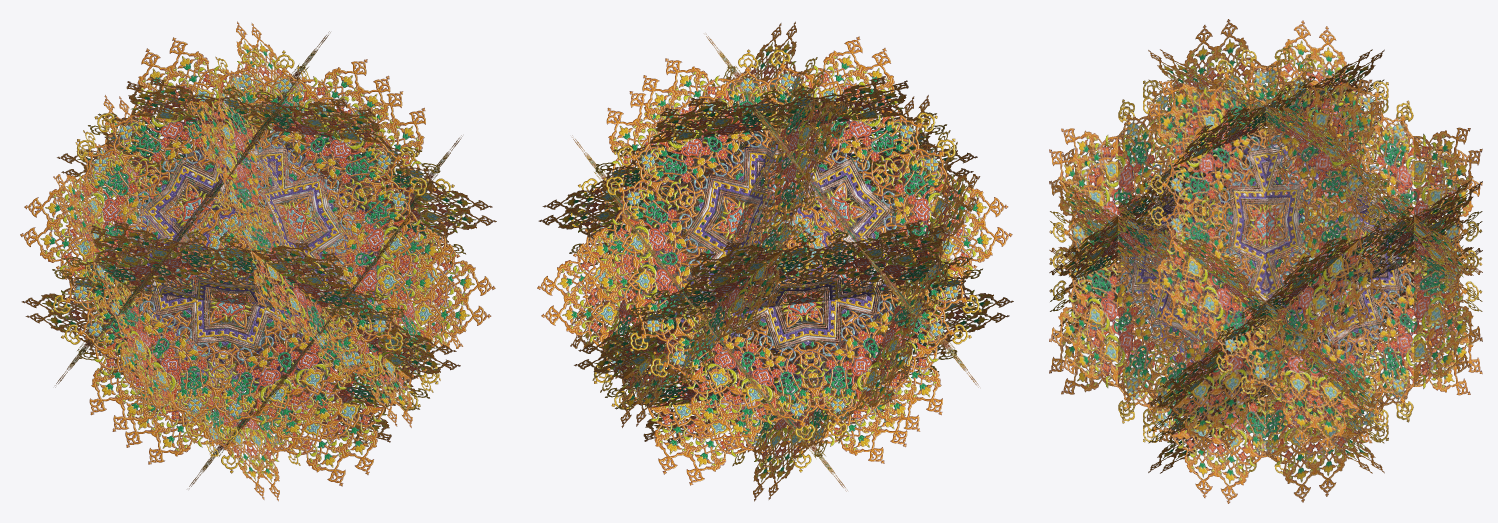
Rendered from GreatTruncatedCuboctahedron6.gltf.
The picture shows the model from 3 angles, left to right: view 1: azimuth 30°, elevation 25°; view 2: azimuth 150°, elevation 25°; view 3: azimuth 270°, elevation 25°; orthographic projection.
Visible parts, largest first — view 1: GreatTruncatedCuboctahedron; view 2: GreatTruncatedCuboctahedron; view 3: GreatTruncatedCuboctahedron.
Part boxes in pixels (box(x1,y1,x2,y2)): GreatTruncatedCuboctahedron: box(20, 21, 496, 501); GreatTruncatedCuboctahedron: box(537, 21, 1013, 501); GreatTruncatedCuboctahedron: box(1049, 19, 1482, 503).
Size of the model in its own units: 1.83 by 1.83 by 1.83.
Materials: 1 (1 with a texture image).
